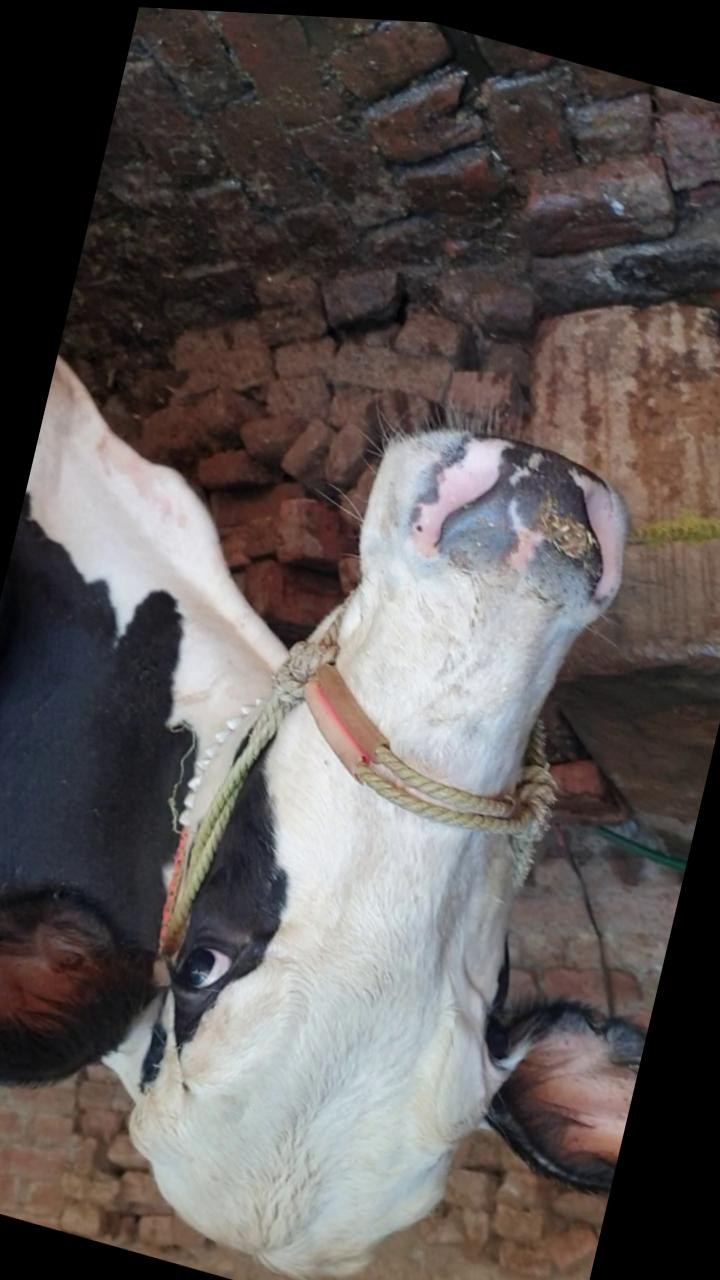cows: (106, 364, 689, 1280)
